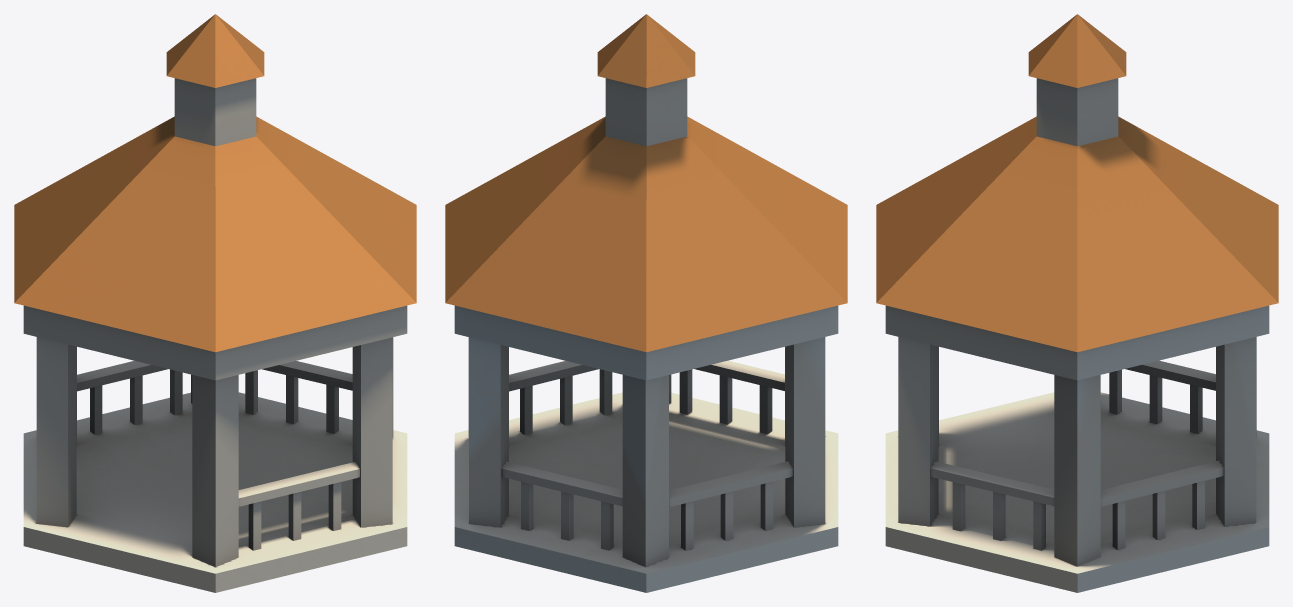
3 views of the same model, side by side, from view 1: azimuth 30°, elevation 25°; view 2: azimuth 150°, elevation 25°; view 3: azimuth 270°, elevation 25° (orthographic).
Visible parts, largest first — view 1: gazebo; view 2: gazebo; view 3: gazebo.
Part boxes in pixels (x1,y1,x2,y2): gazebo: [14, 14, 416, 592]; gazebo: [445, 14, 847, 592]; gazebo: [876, 14, 1278, 592].
Bounding box in the file's own units: 1.89 × 2.18 × 1.64.
1 material, 1 textured.
